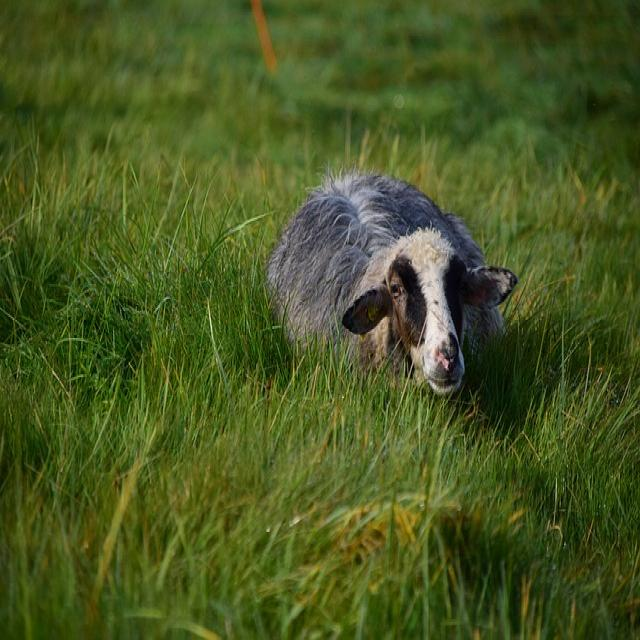goat: (268, 171, 515, 393)
